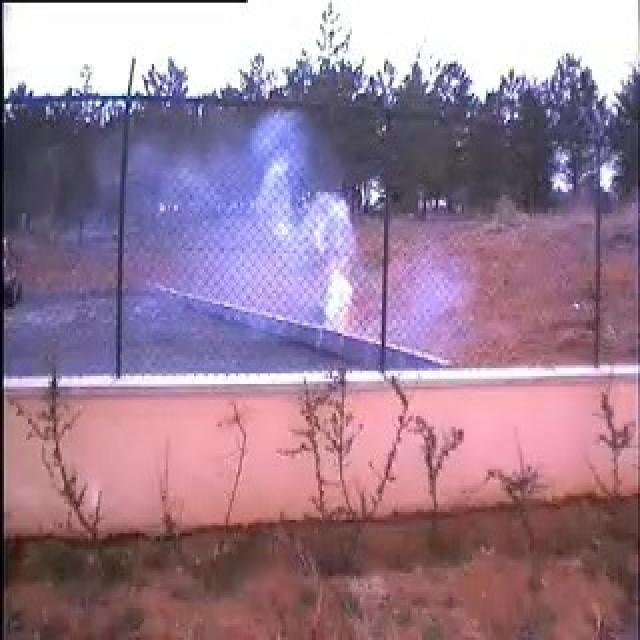smoke: (129, 116, 384, 342)
